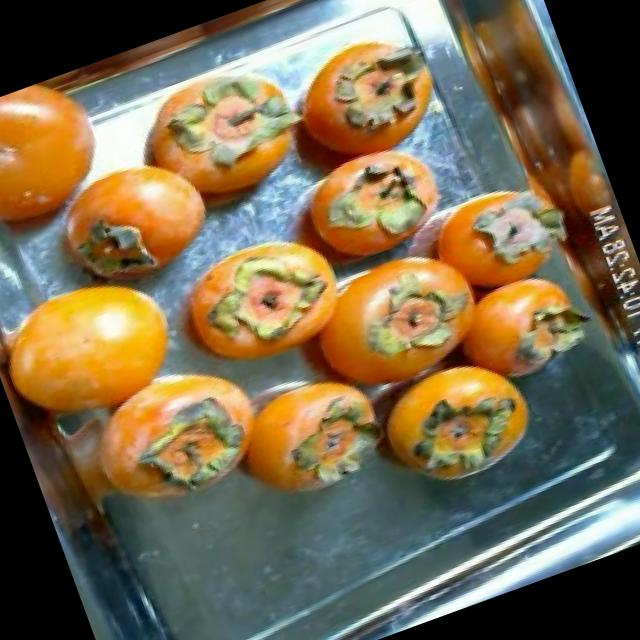Fruit: (0, 253, 212, 453), (287, 6, 465, 172)
